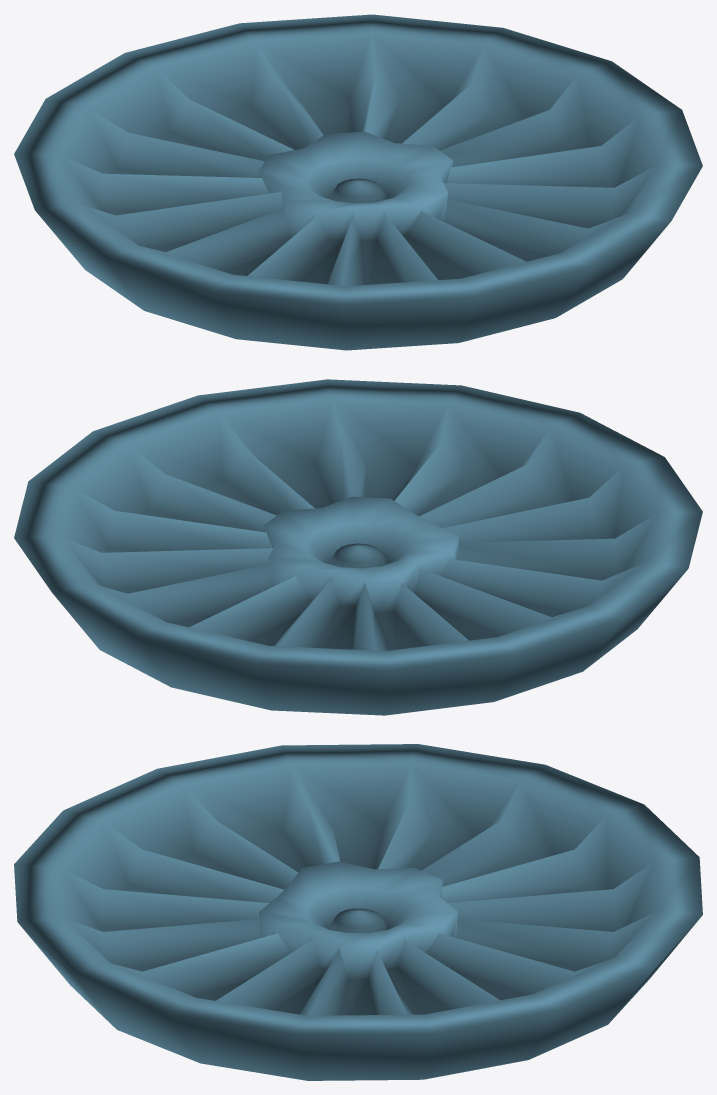
File: microscopic-plankton-centric-diatom_v3.glb
The picture shows the model from 3 angles, top to bottom: view 1: azimuth 30°, elevation 25°; view 2: azimuth 150°, elevation 25°; view 3: azimuth 270°, elevation 25°; orthographic projection.
Parts seen in each view (by area): view 1: Centric Diatom_v3; view 2: Centric Diatom_v3; view 3: Centric Diatom_v3.
Boxes of the visible parts, x1,y1,x2,y2 form: Centric Diatom_v3: (14,14,702,350); Centric Diatom_v3: (14,379,702,715); Centric Diatom_v3: (14,744,702,1080).
Size of the model in its own units: 0.5 by 0.0941 by 0.5.
